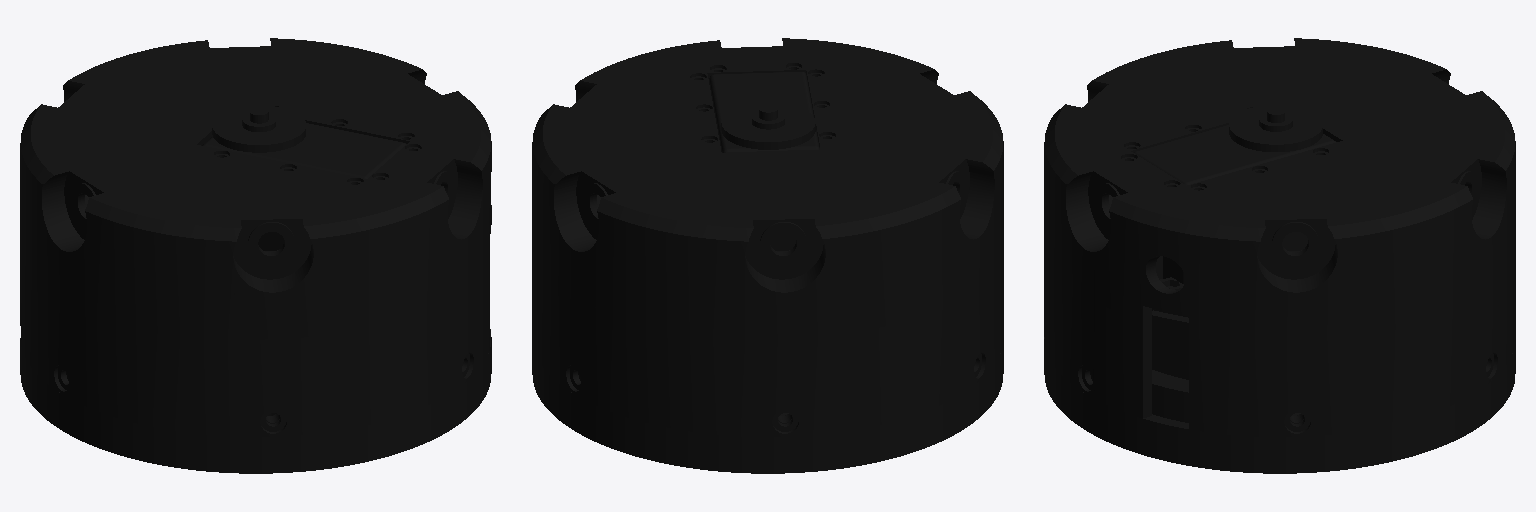
The robot description file, URDF, robot "Fenrir":
<?xml version="1.0" encoding="utf-8"?>
<!-- =================================================================================== -->
<!-- |    This document was autogenerated by xacro from fenrir.xacro                   | -->
<!-- |    EDITING THIS FILE BY HAND IS NOT RECOMMENDED                                 | -->
<!-- =================================================================================== -->
<robot name="Fenrir">
  <link name="base_link">
    <visual>
      <origin rpy="0 0 0" xyz="0 0 0"/>
      <geometry>
        <mesh filename="package://fenrir/meshes/visual/base_link.stl" scale="0.01 0.01 0.01"/>
      </geometry>
      <material name="">
        <color rgba="0.117647058824 0.117647058824 0.117647058824 1.0"/>
      </material>
    </visual>
    <collision>
      <origin rpy="0 0 0" xyz="0 0 0"/>
      <geometry>
        <mesh filename="package://fenrir/meshes/collision/base_link.stl" scale="0.01 0.01 0.01"/>
      </geometry>
    </collision>
  </link>
  <link name="disk">
    <visual>
      <origin rpy="0 0 0" xyz="0 0 0"/>
      <geometry>
        <mesh filename="package://fenrir/meshes/visual/disk.stl" scale="0.01 0.01 0.01"/>
      </geometry>
      <material name="">
        <color rgba="0.117647058824 0.117647058824 0.117647058824 1.0"/>
      </material>
    </visual>
    <collision>
      <origin rpy="0 0 0" xyz="0 0 0"/>
      <geometry>
        <mesh filename="package://fenrir/meshes/collision/disk.stl" scale="0.01 0.01 0.01"/>
      </geometry>
    </collision>
  </link>
  <link name="lower_arm">
    <visual>
      <origin rpy="0 0 0" xyz="0 0.022 0"/>
      <geometry>
        <mesh filename="package://fenrir/meshes/visual/lower_arm.stl" scale="0.01 0.01 0.01"/>
      </geometry>
      <material name="">
        <color rgba="0.117647058824 0.117647058824 0.117647058824 1.0"/>
      </material>
    </visual>
    <collision>
      <origin rpy="0 0 0" xyz="0 0 0"/>
      <geometry>
        <mesh filename="package://fenrir/meshes/collision/lower_arm.stl" scale="0.01 0.01 0.01"/>
      </geometry>
    </collision>
  </link>
  <link name="forearm">
    <visual>
      <origin rpy="0 0 0" xyz="0 0 0"/>
      <geometry>
        <mesh filename="package://fenrir/meshes/visual/forearm.stl" scale="0.01 0.01 0.01"/>
      </geometry>
      <material name="">
        <color rgba="0.917647058824 0.356862745098 0.078431372549 1.0"/>
      </material>
    </visual>
    <collision>
      <origin rpy="0 0 0" xyz="0 0 0"/>
      <geometry>
        <mesh filename="package://fenrir/meshes/collision/forearm.stl" scale="0.01 0.01 0.01"/>
      </geometry>
    </collision>
  </link>
  <link name="end_effector">
    <visual>
      <origin rpy="0 0 0" xyz="0 0 0"/>
      <geometry>
        <mesh filename="package://fenrir/meshes/visual/end_effector.stl" scale="0.01 0.01 0.01"/>
      </geometry>
      <material name="">
        <color rgba="0.117647058824 0.117647058824 0.117647058824 1.0"/>
      </material>
    </visual>
    <collision>
      <origin rpy="0 0 0" xyz="0 0 0"/>
      <geometry>
        <mesh filename="package://fenrir/meshes/collision/end_effector.stl" scale="0.01 0.01 0.01"/>
      </geometry>
    </collision>
  </link>
  <!-- joints: main serial chain -->
  <joint name="Base" type="revolute">
    <origin rpy="0 0 0" xyz="0 0 0.080"/>
    <parent link="base_link"/>
    <child link="disk"/>
    <axis xyz="0 0 1"/>
    <limit effort="0" lower="-2.967" upper="2.967" velocity="4.01"/>
  </joint>
  <joint name="Shoulder" type="revolute">
    <origin rpy="0 0 0" xyz="0 0 0.080"/>
    <parent link="disk"/>
    <child link="lower_arm"/>
    <axis xyz="0 1 0"/>
    <limit effort="0" lower="-1.57" upper="2.79" velocity="3.93"/>
  </joint>
  <joint name="Elbow" type="revolute">
    <origin rpy="0 0 0" xyz="0 0.001 0.195"/>
    <parent link="lower_arm"/>
    <child link="forearm"/>
    <axis xyz="0 -1 0"/>
    <limit effort="0" lower="-3.14" upper="4.66" velocity="4.01"/>
  </joint>
  <joint name="Wrist" type="revolute">
    <origin rpy="0 0 0" xyz="0 0 0.15"/>
    <parent link="forearm"/>
    <child link="end_effector"/>
    <axis xyz="-1 0 0"/>
    <limit effort="0" lower="-3.31" upper="3.31" velocity="7.50"/>
  </joint>
</robot>

--- Facts derived from the render (not from the file) ---
Views: 3 orthographic renders of the robot side by side, from view 1: azimuth 30°, elevation 25°; view 2: azimuth 150°, elevation 25°; view 3: azimuth 270°, elevation 25°.
Robot: Fenrir — 5 links, 4 joints (4 revolute); root link base_link; default pose: every joint at zero.
Visible links, largest first — view 1: base_link; view 2: base_link; view 3: base_link.
Boxes of the visible links, box(x1,y1,x2,y2) form: base_link: box(20, 38, 491, 473); base_link: box(532, 38, 1003, 473); base_link: box(1044, 38, 1515, 473).
Bounding box of the posed robot: 0.14 × 0.14 × 0.0865 m (x, y, z).
Meshes: 5 distinct files referenced, 1 mesh visuals loaded (1 binary STL); not drawn: 4 (reference not matched to a file when rendering).